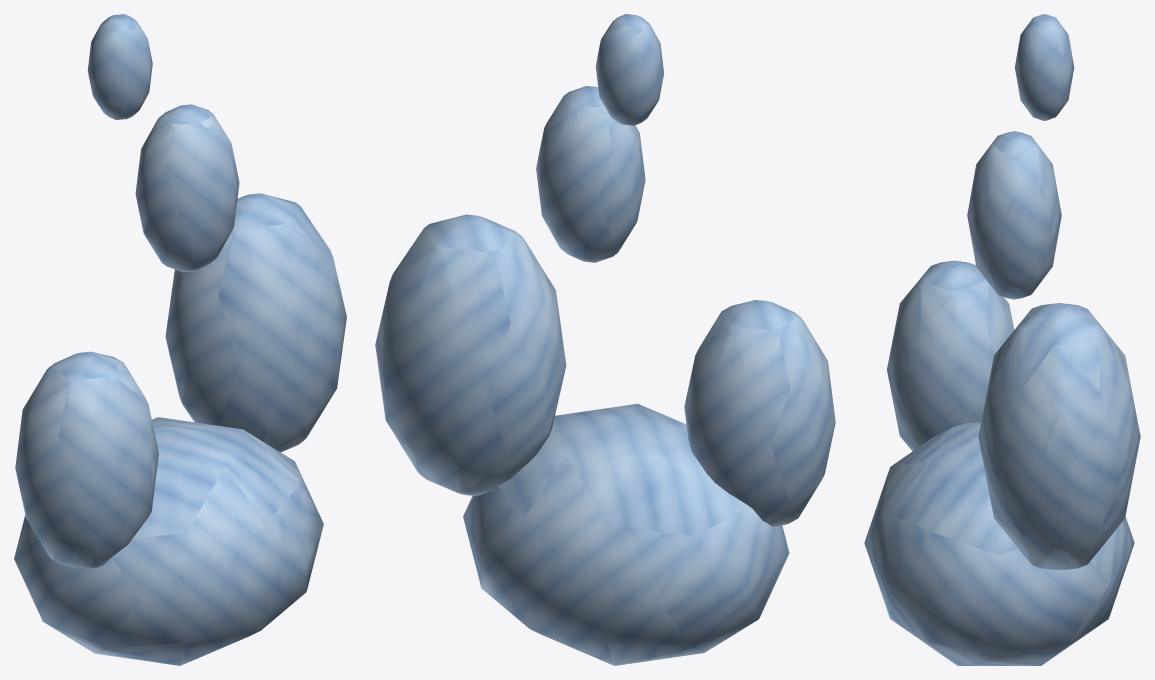
Rendered from resource_gold.fbx.
The picture shows the model from 3 angles, left to right: view 1: azimuth 30°, elevation 25°; view 2: azimuth 150°, elevation 25°; view 3: azimuth 270°, elevation 25°; orthographic projection. The views are drawn at different scales.
Visible parts, largest first — view 1: resource_gold; view 2: resource_gold; view 3: resource_gold.
Boxes of the visible parts, <box> form: resource_gold: <box>14,14,346,665</box>; resource_gold: <box>375,14,835,665</box>; resource_gold: <box>864,14,1140,665</box>.
Bounding box in the file's own units: 1.38 × 2.29 × 0.92.
